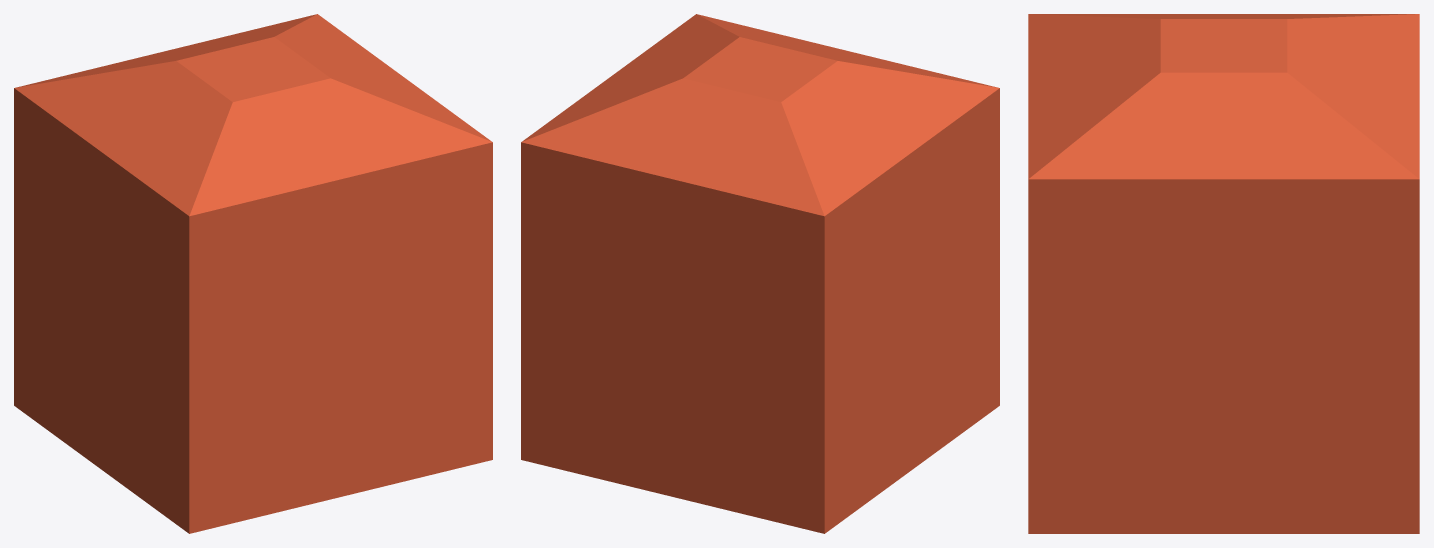
3 renders of one model, left to right at view 1: azimuth 30°, elevation 25°; view 2: azimuth 150°, elevation 25°; view 3: azimuth 270°, elevation 25°, orthographic. The views are drawn at different scales.
Visible parts, largest first — view 1: Cube; view 2: Cube; view 3: Cube.
Part boxes in pixels (x1,y1,x2,y2): Cube: (14,14,492,533); Cube: (521,14,999,533); Cube: (1028,14,1419,533).
Size of what is drawn, in the model's own units: 2 by 2.29 by 2.
